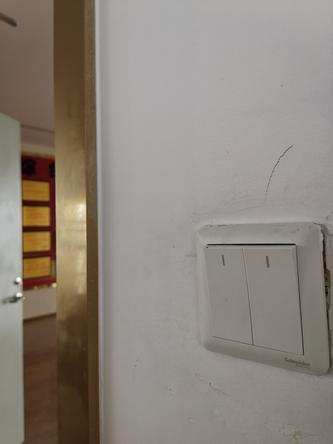switch: (238, 241, 306, 355), (199, 241, 257, 344)
